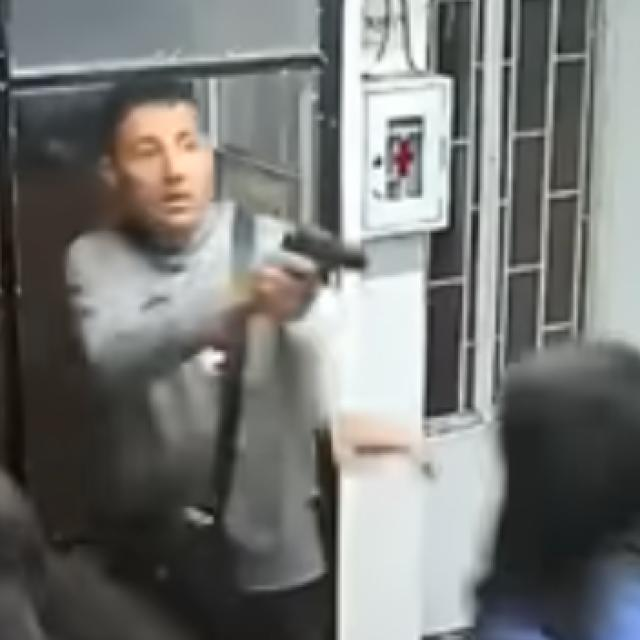FPistol: (282, 219, 374, 295)
